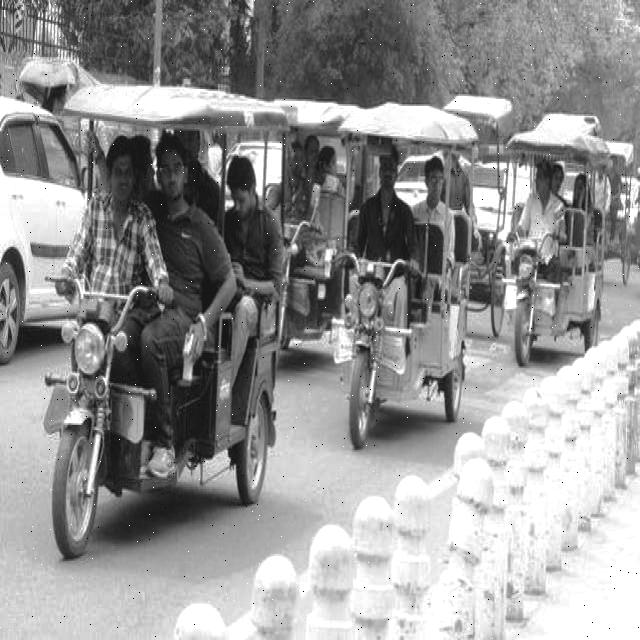Toto: (50, 79, 285, 548), (339, 104, 471, 440), (507, 118, 606, 346)
